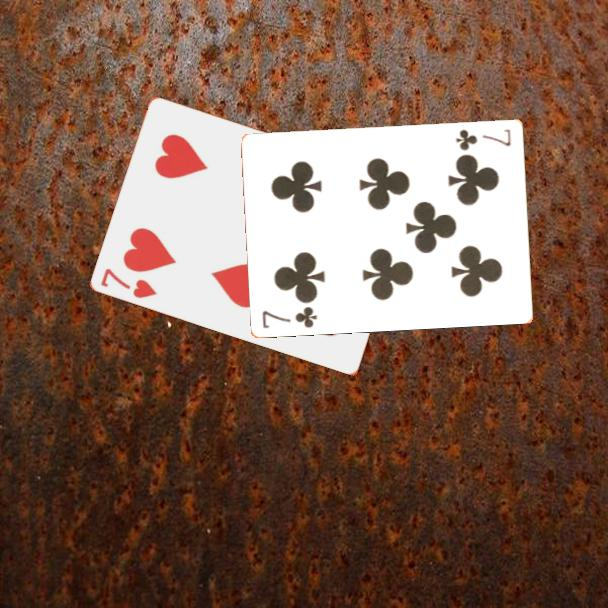c07: (453, 125, 514, 153), (259, 303, 320, 331)
h07: (97, 264, 160, 301)
